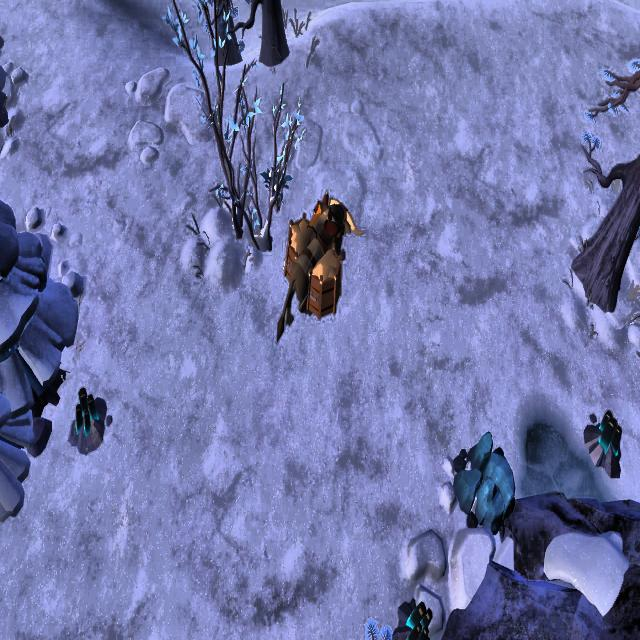fiber_t4: (260, 159, 292, 209)
ore_t4: (72, 385, 100, 437), (596, 408, 622, 459), (401, 596, 431, 640)
rock_t4: (451, 423, 521, 536)
